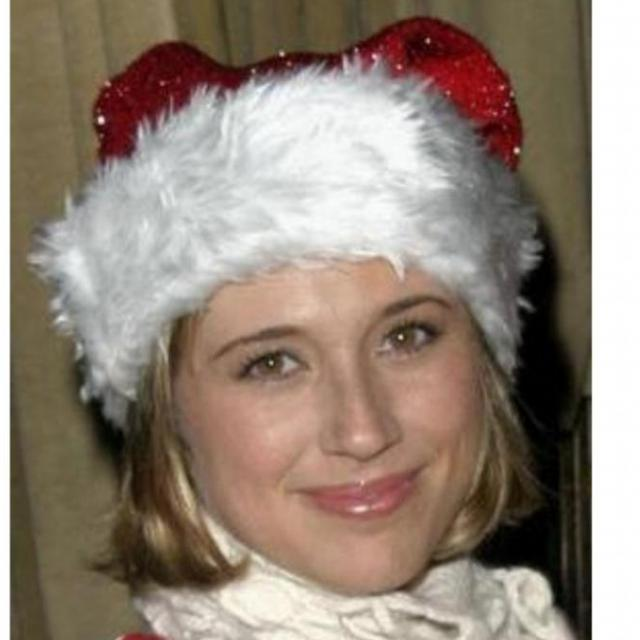live: (120, 92, 509, 610)
